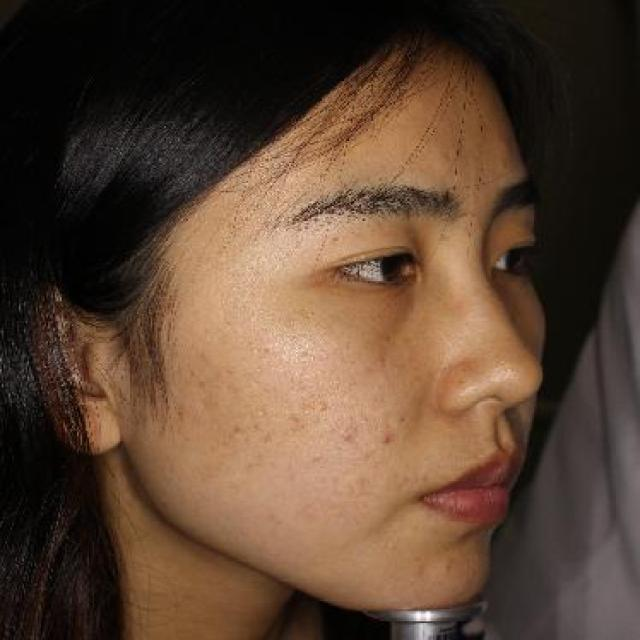dark spot: (185, 360, 212, 395), (284, 408, 308, 443), (258, 504, 286, 534), (296, 497, 323, 525), (440, 554, 464, 580), (335, 426, 363, 448), (409, 562, 430, 588), (375, 428, 400, 449), (226, 418, 246, 444)
